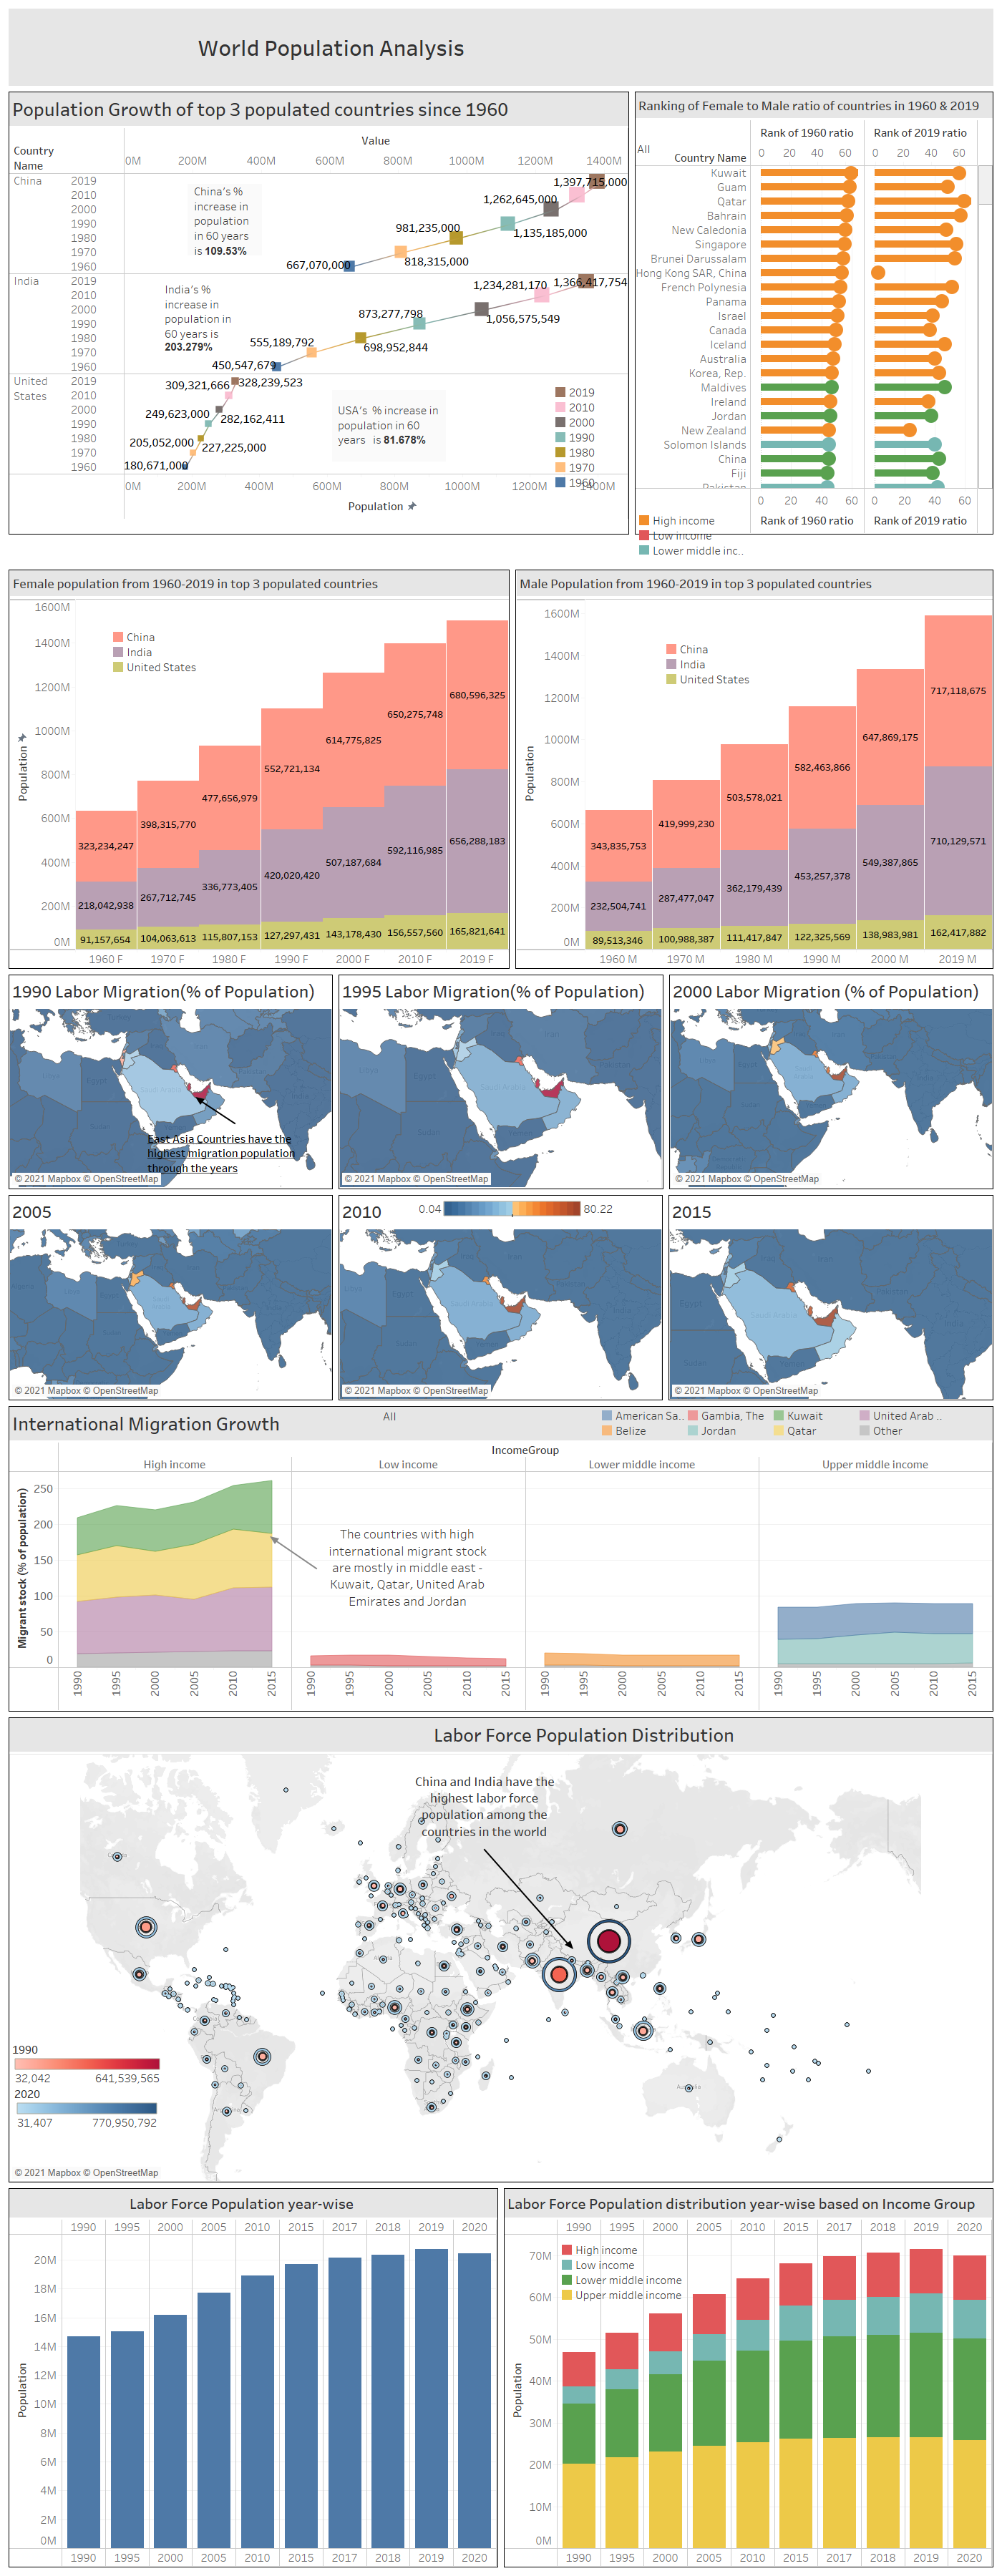

The dashboard page shown, as its layout file describes it:
{"tool":"tableau","page":{"name":"final dash","canvas":[1400,3600],"ordinal":4},"visuals":[{"type":"title","box":[8,8,1384,116]},{"type":"worksheet","title":"sheet11","mark":"Automatic","rows":["Country Name"],"box":[8,124,875,627]},{"type":"worksheet","title":"Sheet 24","mark":"Automatic","rows":["Country Name"],"cols":["Calculation_836262179983437824","Calculation_836262179983437824","Calculation_836262180000026630","Calculation_836262180000026630"],"box":[883,124,509,627]},{"type":"filter","title":"Sheet 24","param":"[federated.0zjzzty0vp6mg71759h1g0o24kyp (copy)].[Income Group (copy) Set]","box":[885,167,160,37]},{"type":"legend","title":"sheet11","param":"[federated.0zjzzty0vp6mg71759h1g0o24kyp (copy)].[:Measure Names]","box":[770,503,103,153]},{"type":"legend","title":"Sheet 24","param":"[federated.0zjzzty0vp6mg71759h1g0o24kyp (copy)].[none:IncomeGroup:nk]","box":[889,685,154,58]},{"type":"worksheet","title":"sheet12","mark":"Bar","box":[8,792,708,566]},{"type":"worksheet","title":"sheet13","mark":"Bar","box":[716,792,675.9,566]},{"type":"legend","title":"sheet12","param":"[federated.0zjzzty0vp6mg71759h1g0o24kyp (copy)].[none:Country Name:nk]","box":[155,880,140,85]},{"type":"legend","title":"sheet13","param":"[federated.0zjzzty0vp6mg71759h1g0o24kyp (copy)].[none:Country Name:nk]","box":[928,897,140,85]},{"type":"worksheet","title":"sheet21","mark":"Automatic","box":[8,1358,461.3,307.5]},{"type":"worksheet","title":"sheet22","mark":"Automatic","box":[469.3,1358,461.3,307.5]},{"type":"worksheet","title":"sheet26","mark":"Automatic","box":[930.6,1358,461.3,307.5]},{"type":"worksheet","title":"sheet23","mark":"Automatic","box":[8,1665.5,460.7,295.5]},{"type":"worksheet","title":"sheet24","mark":"Automatic","box":[468.7,1665.5,461.5,295.5]},{"type":"worksheet","title":"sheet25","mark":"Automatic","box":[930.2,1665.5,461.8,295.5]},{"type":"legend","title":"sheet26","param":"[federated.0gx17lo0ojp8o31ekgbgw0llpr6u].[sum:2000:qk]","box":[581,1675,280,40]},{"type":"worksheet","title":"sheet27","mark":"Area","cols":["IncomeGroup"],"box":[8,1961,1384,435]},{"type":"legend","title":"sheet27","param":"[federated.0gx17lo0ojp8o31ekgbgw0llpr6u].[Country Name (group)]","box":[838,1968,541,45]},{"type":"filter","title":"sheet27","param":"[federated.0gx17lo0ojp8o31ekgbgw0llpr6u].[Country Name (group)]","box":[533,1969,246,38]},{"type":"worksheet","title":"sheet31","mark":"Shape","box":[8,2396,1384,658]},{"type":"legend","title":"sheet31","param":"[federated.0co0v0s14fo6kk1gxnn581lcby65].[sum:1990:qk]","box":[17,2850,211,88]},{"type":"legend","title":"sheet31","param":"[federated.0co0v0s14fo6kk1gxnn581lcby65].[sum:2020:qk]","box":[20,2912,204,88]},{"type":"worksheet","title":"sheet32","mark":"Automatic","box":[8,3054,692,538]},{"type":"worksheet","title":"sheet33","mark":"Automatic","box":[700,3054,692,538]},{"type":"legend","title":"sheet33","param":"[federated.0co0v0s14fo6kk1gxnn581lcby65].[none:IncomeGroup:nk]","box":[782,3134,176,85]}]}

Visuals, with their boxes in screenshot pixels (x1, y1, x2, y2), scaled from the page's 1400x3600 canvas onto the 1002x2576 screenshot:
title: 6, 6, 996, 89
"sheet11" worksheet: 6, 89, 632, 537
"Sheet 24" worksheet: 632, 89, 996, 537
"Sheet 24" filter: 633, 119, 748, 146
"sheet11" legend: 551, 360, 625, 469
"Sheet 24" legend: 636, 490, 746, 532
"sheet12" worksheet (Bar marks): 6, 567, 512, 972
"sheet13" worksheet (Bar marks): 512, 567, 996, 972
"sheet12" legend: 111, 630, 211, 691
"sheet13" legend: 664, 642, 764, 703
"sheet21" worksheet: 6, 972, 336, 1192
"sheet22" worksheet: 336, 972, 666, 1192
"sheet26" worksheet: 666, 972, 996, 1192
"sheet23" worksheet: 6, 1192, 336, 1403
"sheet24" worksheet: 336, 1192, 666, 1403
"sheet25" worksheet: 666, 1192, 996, 1403
"sheet26" legend: 416, 1199, 616, 1227
"sheet27" worksheet (Area marks): 6, 1403, 996, 1714
"sheet27" legend: 600, 1408, 987, 1440
"sheet27" filter: 381, 1409, 558, 1436
"sheet31" worksheet (Shape marks): 6, 1714, 996, 2185
"sheet31" legend: 12, 2039, 163, 2102
"sheet31" legend: 14, 2084, 160, 2147
"sheet32" worksheet: 6, 2185, 501, 2570
"sheet33" worksheet: 501, 2185, 996, 2570
"sheet33" legend: 560, 2243, 686, 2303
